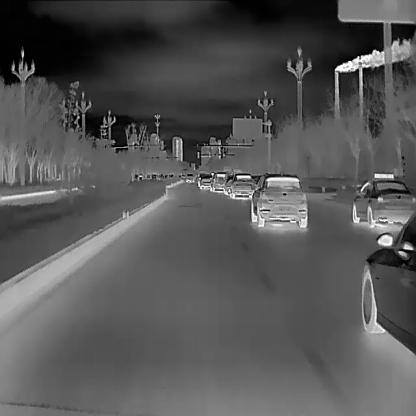car: (360, 209, 415, 355), (351, 170, 415, 228), (249, 171, 307, 228), (228, 172, 255, 198), (209, 171, 228, 191), (197, 174, 212, 189), (223, 175, 234, 193), (185, 172, 193, 182)
